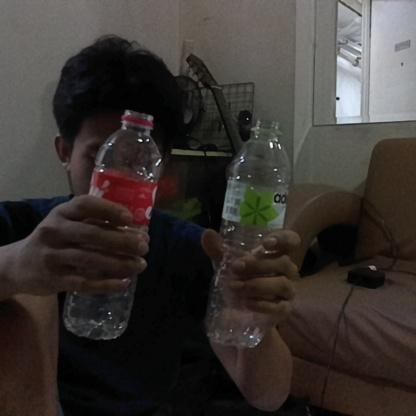plastic_bottles: (68, 107, 158, 340), (203, 114, 288, 346)
